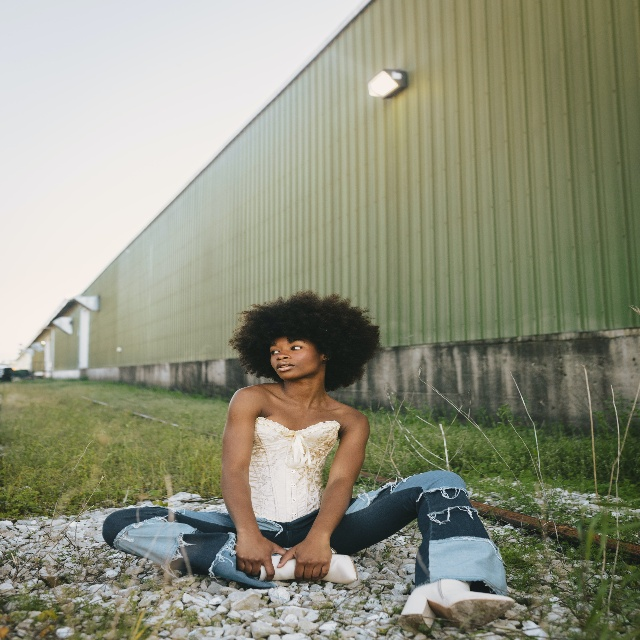Sin_guantes: (274, 535, 332, 583), (235, 533, 288, 578)
